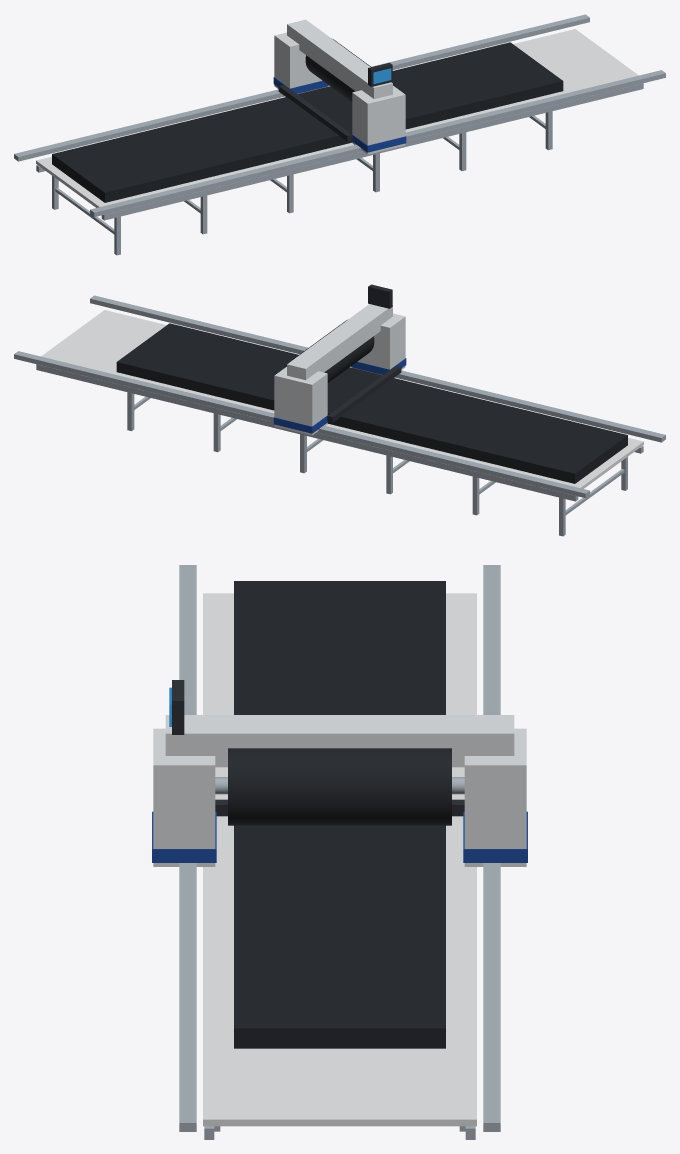
File: serim-makinesi.glb
3 renders of one model, top to bottom at view 1: azimuth 30°, elevation 25°; view 2: azimuth 150°, elevation 25°; view 3: azimuth 270°, elevation 25°, orthographic. The views are drawn at different scales.
Parts seen in each view (by area): view 1: Asset; view 2: Asset; view 3: Asset.
Part boxes in pixels (x1,y1,x2,y2): Asset: (14, 14, 665, 255); Asset: (14, 284, 665, 536); Asset: (152, 565, 527, 1139).
Size of the model in its own units: 10.6 by 2.35 by 3.02.
